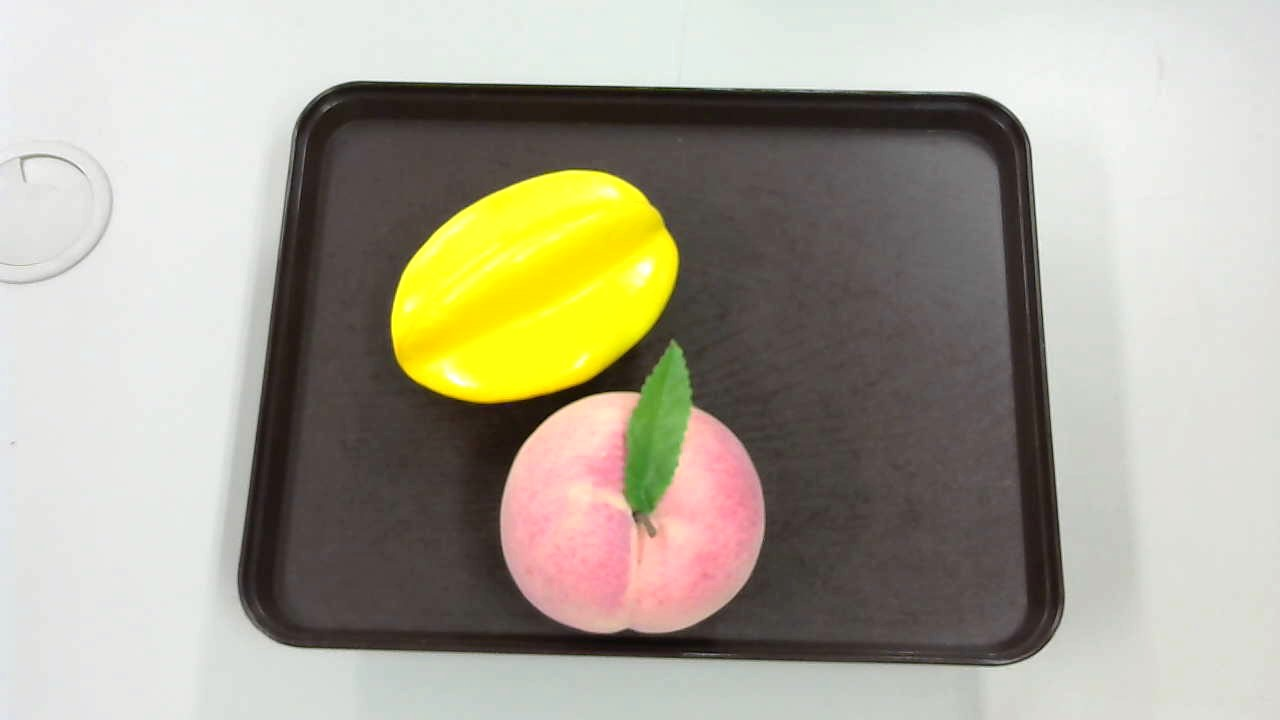peach: (491, 337, 768, 632)
star fruit: (389, 172, 677, 398)
